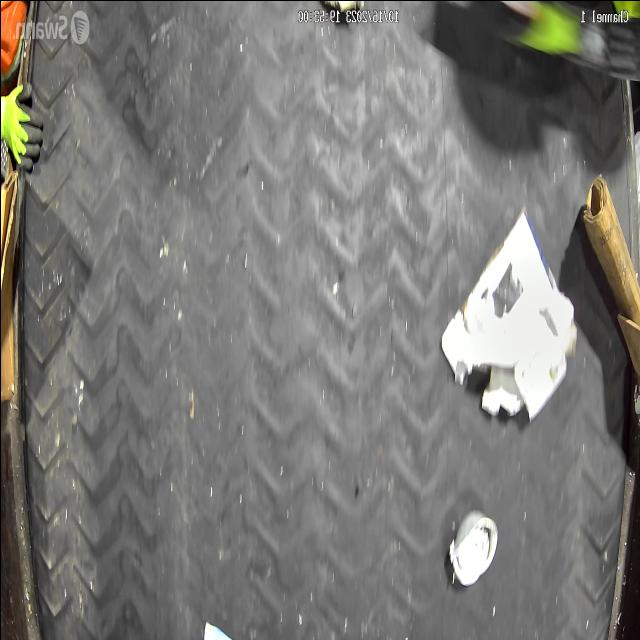can: (438, 488, 512, 592)
